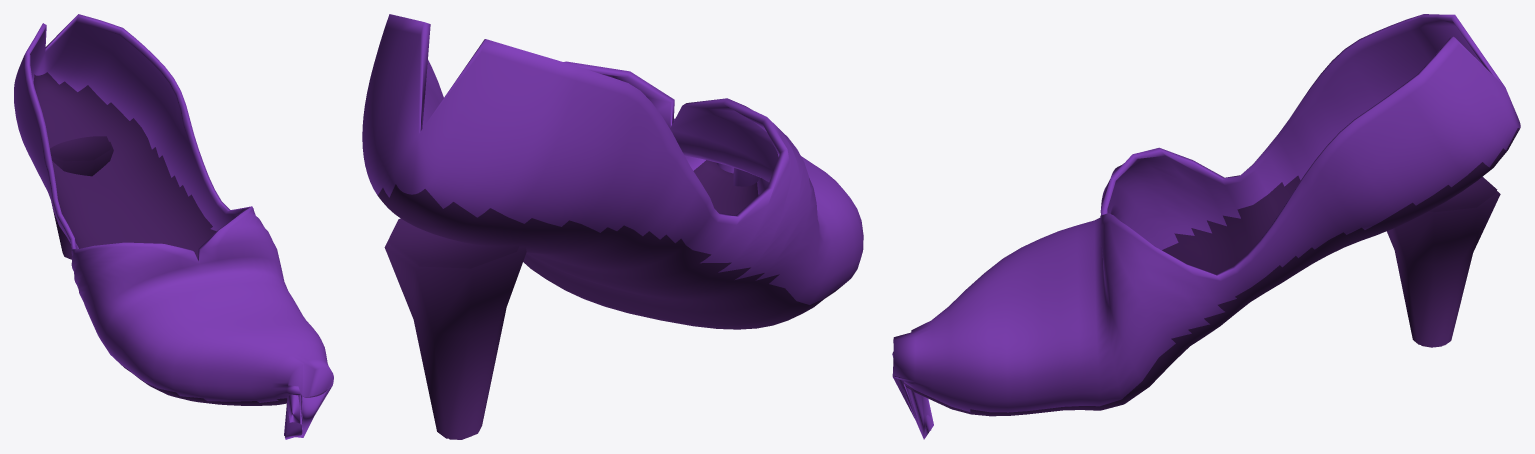
The model's file is anne_heel_prop.glb.
The picture shows the model from 3 angles, left to right: view 1: azimuth 30°, elevation 25°; view 2: azimuth 150°, elevation 25°; view 3: azimuth 270°, elevation 25°; orthographic projection. The views are drawn at different scales.
Visible parts, largest first — view 1: Anne_HeelProp; view 2: Anne_HeelProp; view 3: Anne_HeelProp.
Part boxes in pixels (bbox=[...]): Anne_HeelProp: bbox=[14, 14, 333, 439]; Anne_HeelProp: bbox=[362, 14, 863, 439]; Anne_HeelProp: bbox=[892, 14, 1520, 439].
Bounding box in the file's own units: 0.1059 × 0.1578 × 0.2332.
